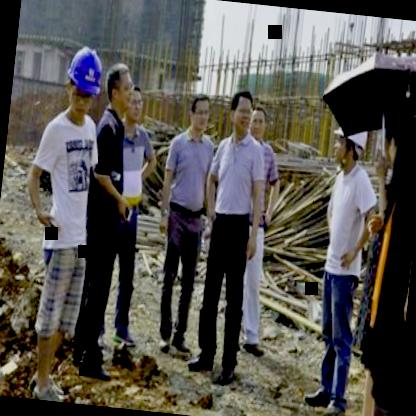head: (381, 111, 416, 177), (100, 58, 136, 116), (224, 86, 256, 139), (188, 92, 214, 140), (125, 84, 149, 126), (247, 104, 268, 143)
helmet: (58, 41, 108, 121), (328, 111, 368, 173)
